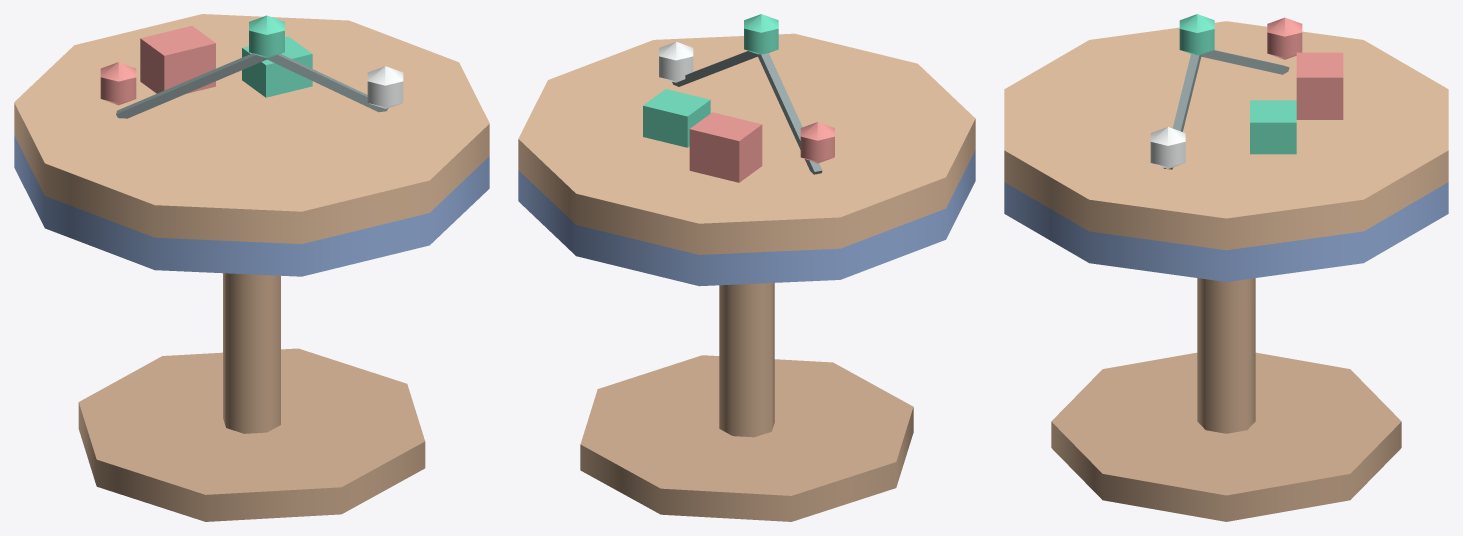
Rendered from activityTable.glb.
3 views of the same model, side by side, from view 1: azimuth 30°, elevation 25°; view 2: azimuth 150°, elevation 25°; view 3: azimuth 270°, elevation 25° (orthographic). The views are drawn at different scales.
Visible parts, largest first — view 1: activityTable; view 2: activityTable; view 3: activityTable.
Part boxes in pixels (x1,y1,x2,y2): activityTable: (14, 14, 489, 521); activityTable: (518, 14, 975, 521); activityTable: (1004, 14, 1448, 521).
Size of the model in its own units: 0.4 by 0.41 by 0.3804.
